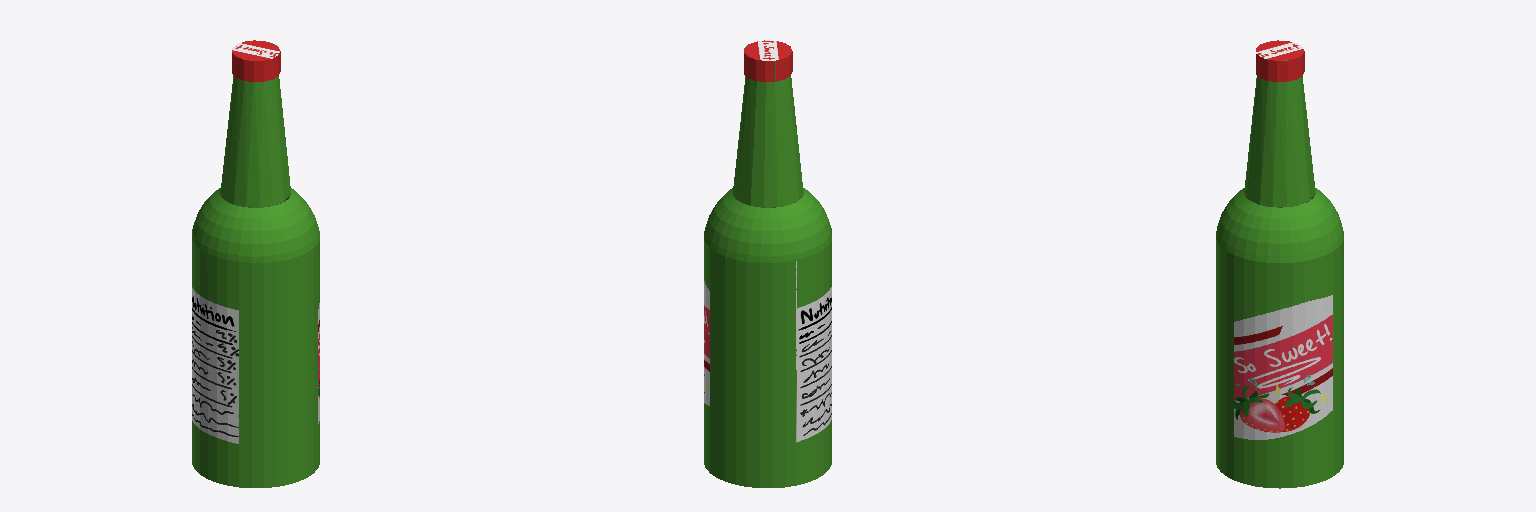
3 renders of one model, left to right at view 1: azimuth 30°, elevation 25°; view 2: azimuth 150°, elevation 25°; view 3: azimuth 270°, elevation 25°, orthographic.
Parts seen in each view (by area): view 1: Cylinder.001_Cylinder.004; view 2: Cylinder.001_Cylinder.004; view 3: Cylinder.001_Cylinder.004.
Part boxes in pixels (bbox=[...]): Cylinder.001_Cylinder.004: bbox=[192, 40, 319, 487]; Cylinder.001_Cylinder.004: bbox=[704, 40, 831, 487]; Cylinder.001_Cylinder.004: bbox=[1216, 40, 1343, 488].
Size of the model in its own units: 0.1401 by 0.4921 by 0.14.
1 materials, 1 textured.